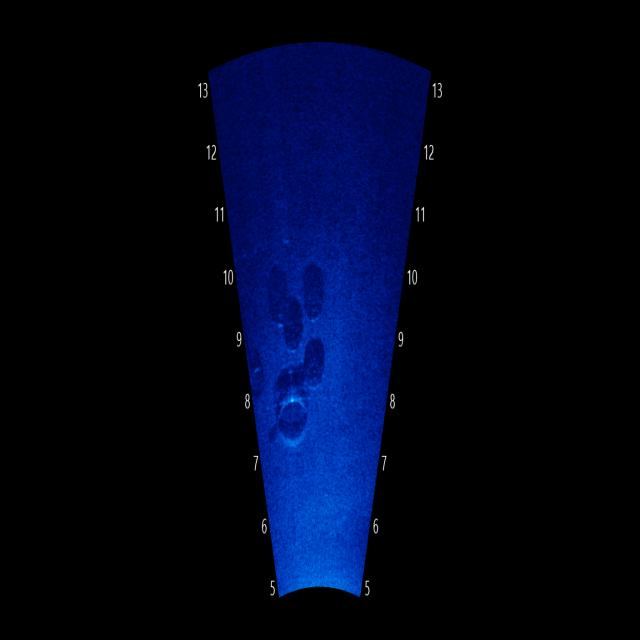circle: (270, 371, 320, 459), (281, 282, 312, 358), (260, 280, 294, 340), (300, 336, 332, 396), (301, 268, 328, 330)
